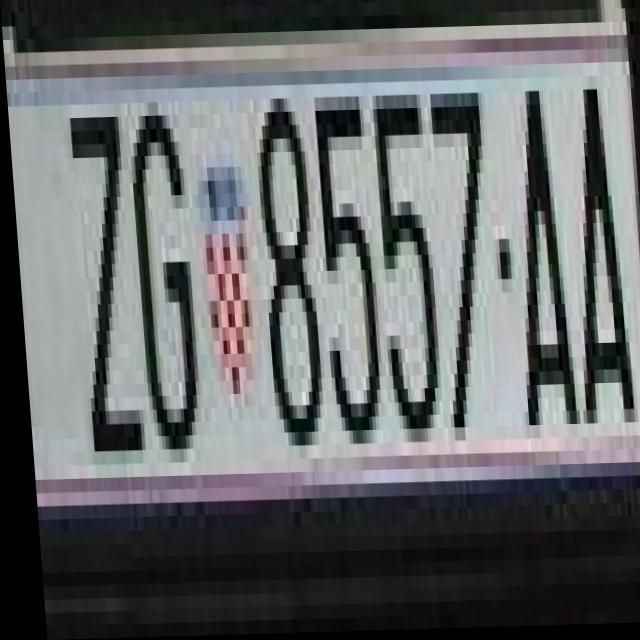5: (310, 111, 380, 446), (370, 84, 440, 405)
7: (423, 69, 492, 430)
8: (247, 87, 319, 448)
A: (556, 79, 632, 427), (495, 80, 566, 416)
G: (115, 103, 198, 464)
Z: (67, 91, 139, 452)
